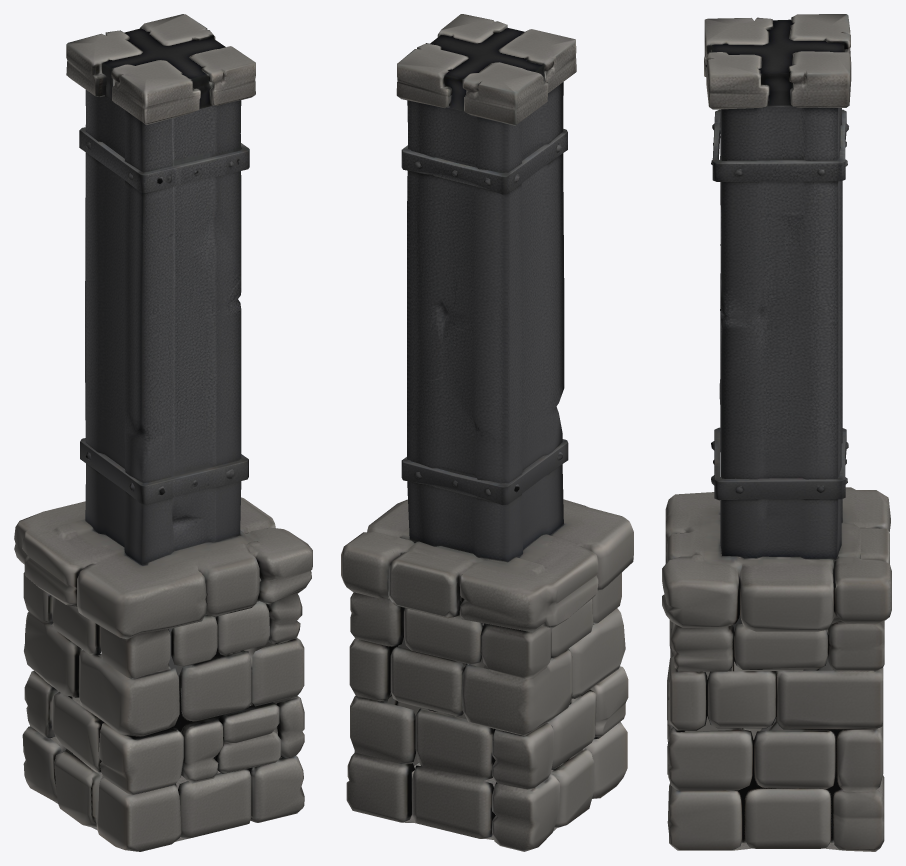
Rendered from pilastro_dimora.glb.
3 views of the same model, side by side, from view 1: azimuth 30°, elevation 25°; view 2: azimuth 150°, elevation 25°; view 3: azimuth 270°, elevation 25° (orthographic). The views are drawn at different scales.
Parts seen in each view (by area): view 1: pilastro_dimora; view 2: pilastro_dimora; view 3: pilastro_dimora.
Part boxes in pixels (x1,y1,x2,y2): pilastro_dimora: (14, 14, 312, 851); pilastro_dimora: (341, 14, 633, 851); pilastro_dimora: (662, 14, 891, 851).
Size of the model in its own units: 0.2866 by 0.9995 by 0.2729.
1 material, 1 textured.
